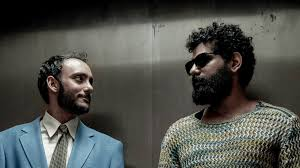middle_eastern_male: (38, 52, 100, 113)
